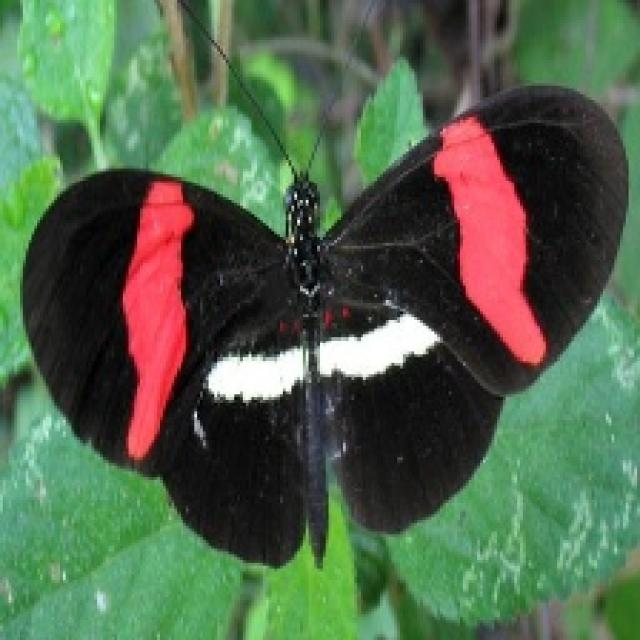butterfly: (17, 0, 629, 569)
